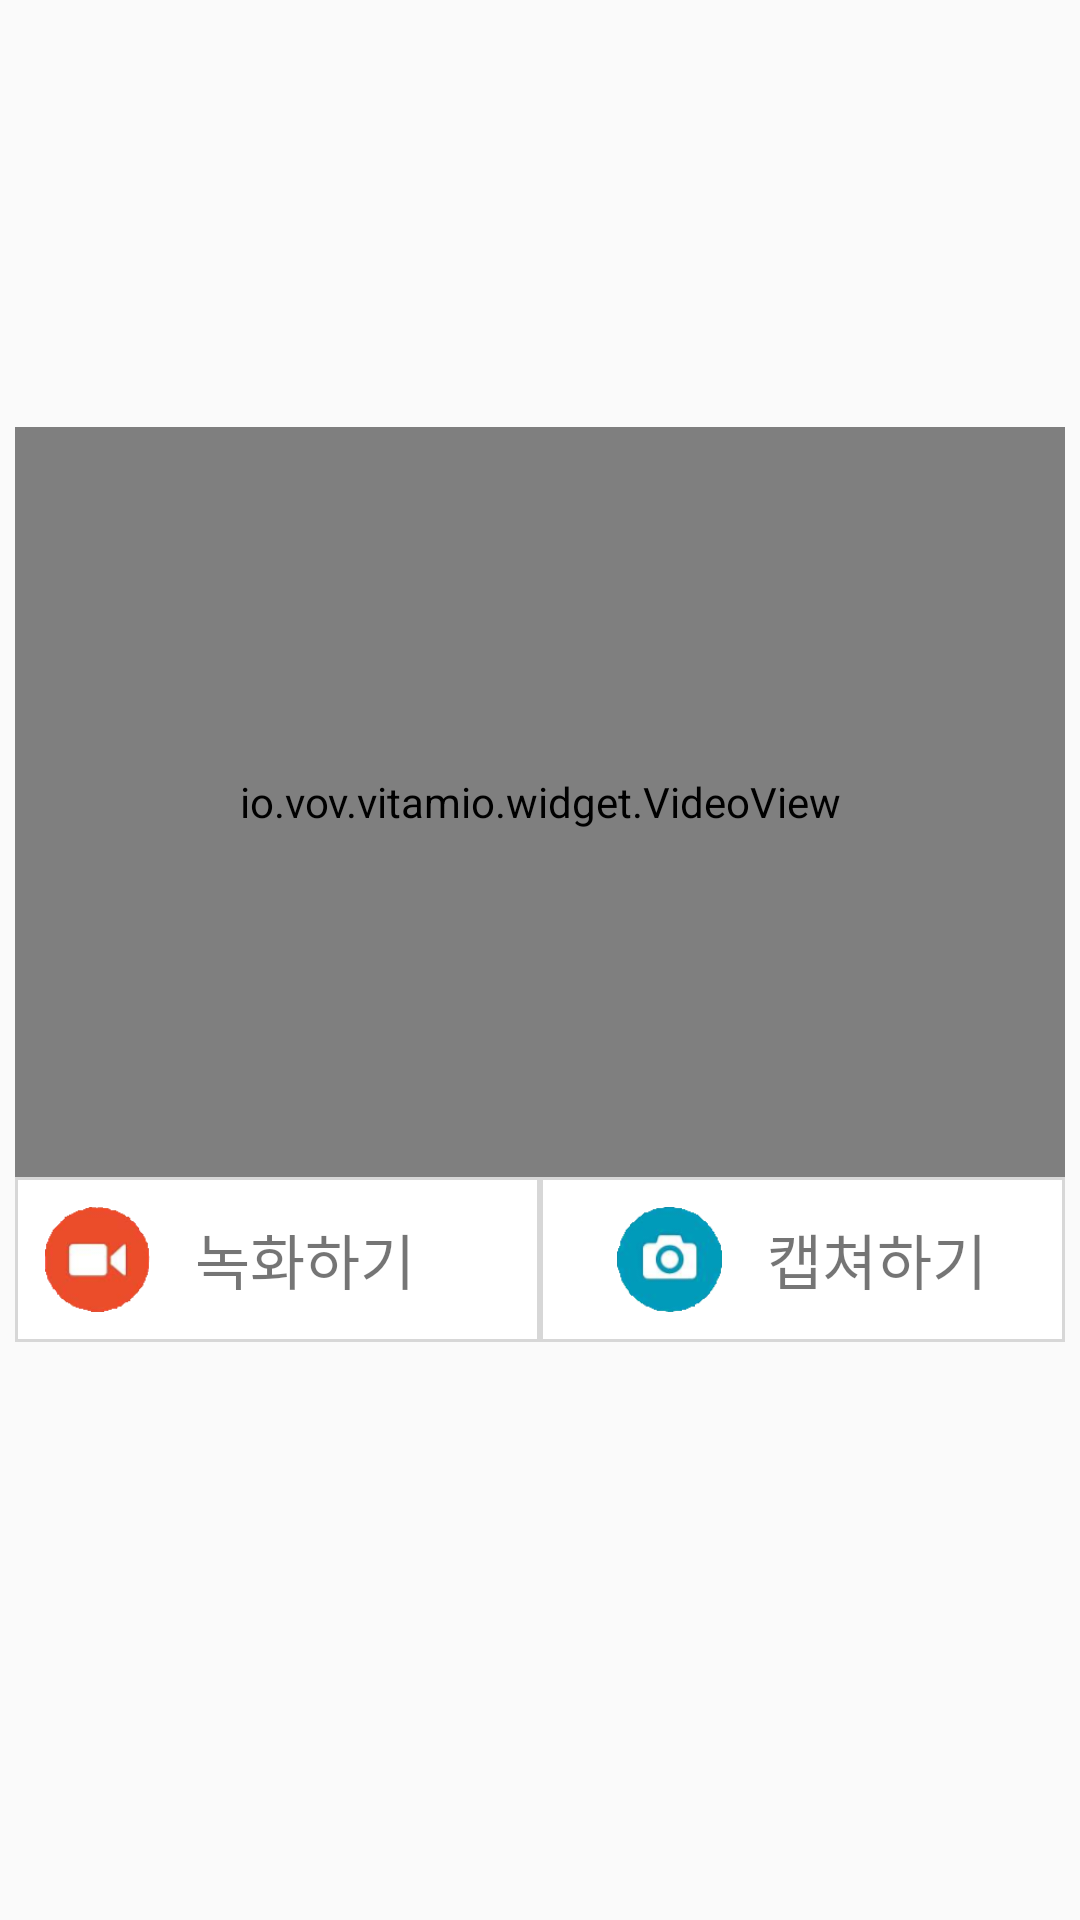

Icon bounding boxes for this 1080px x 1920px phone screenshot, format bbox=[x1, y1, x2, y2]:
capture: bbox=[617, 1207, 722, 1312]
recording: bbox=[45, 1207, 150, 1312]
